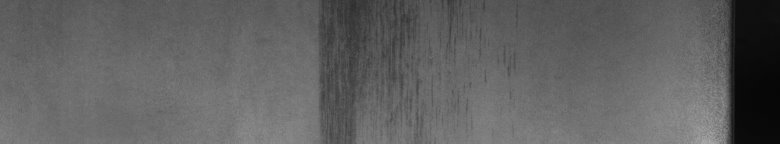ka: (312, 4, 510, 136)
